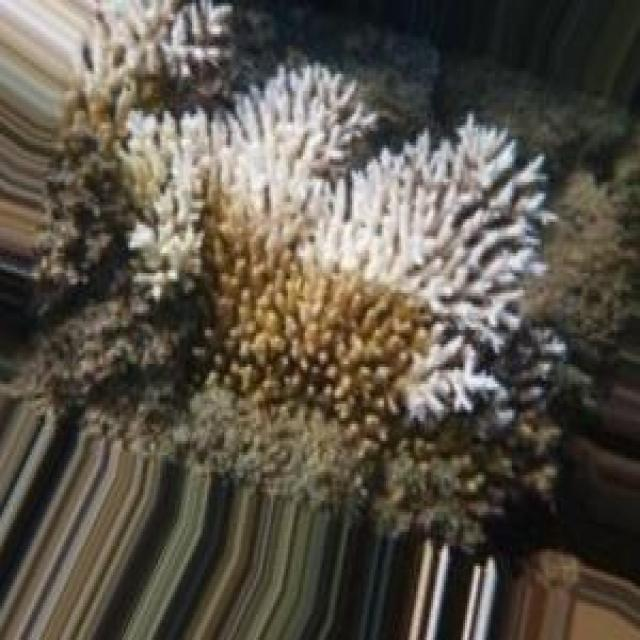Bleached: (319, 118, 567, 428), (122, 66, 377, 273)
Healthy: (205, 191, 429, 431)
